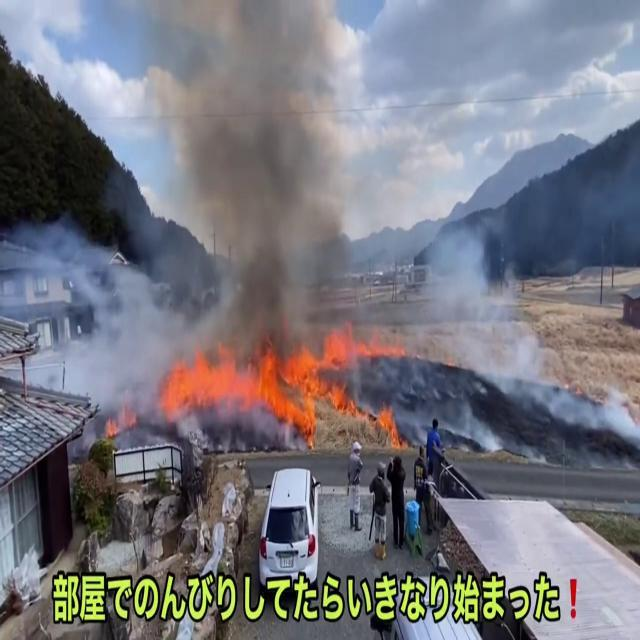Fire: (158, 328, 390, 436)
Smoke: (141, 1, 373, 344), (400, 210, 557, 412)
